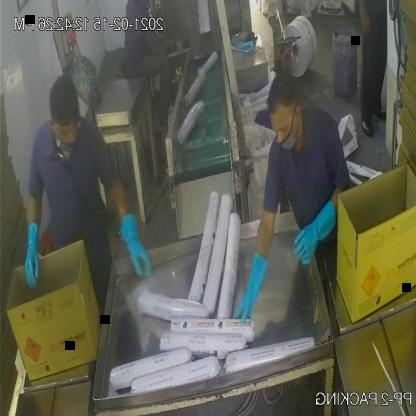glove: (288, 185, 342, 280), (230, 251, 272, 338), (120, 214, 149, 288), (17, 218, 44, 294)
